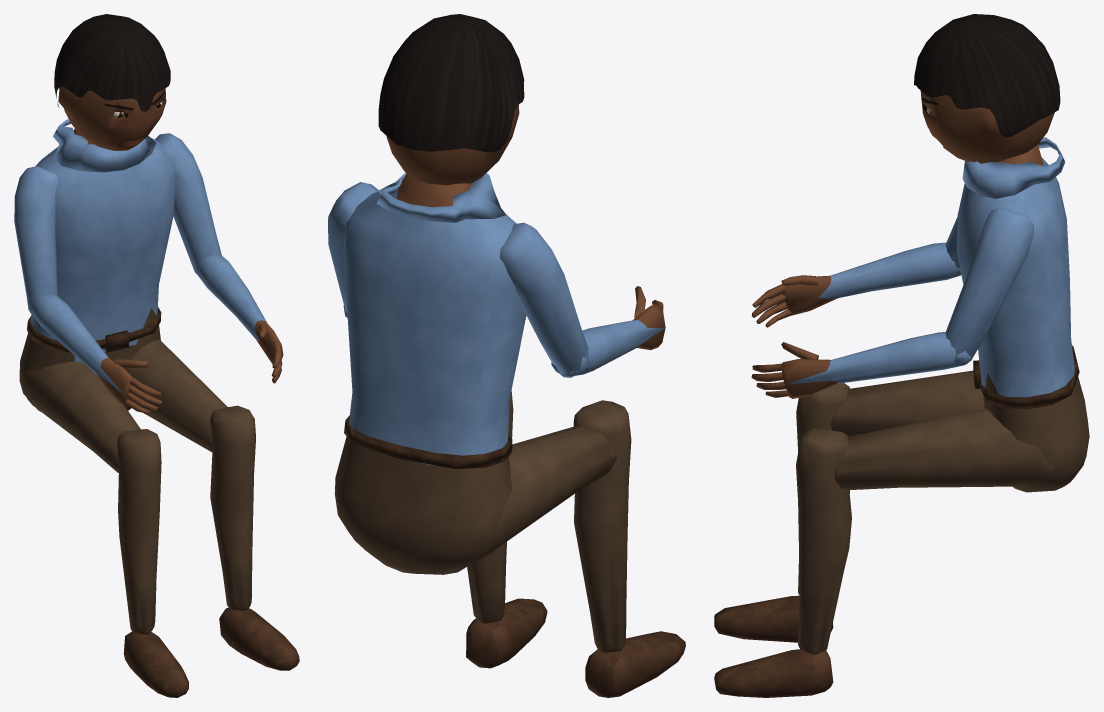
File: persona_nino_sentado_lod.obj
3 renders of one model, left to right at view 1: azimuth 30°, elevation 25°; view 2: azimuth 150°, elevation 25°; view 3: azimuth 270°, elevation 25°, orthographic. The views are drawn at different scales.
Parts seen in each view (by area): view 1: persona_nino_sentado; view 2: persona_nino_sentado; view 3: persona_nino_sentado.
Part boxes in pixels (<box>): persona_nino_sentado: <box>14,14,299,697</box>; persona_nino_sentado: <box>328,14,685,697</box>; persona_nino_sentado: <box>714,14,1089,697</box>.
Size of the model in its own units: 0.3238 by 0.9358 by 0.4909.
Materials: 12 (12 with a texture image).
